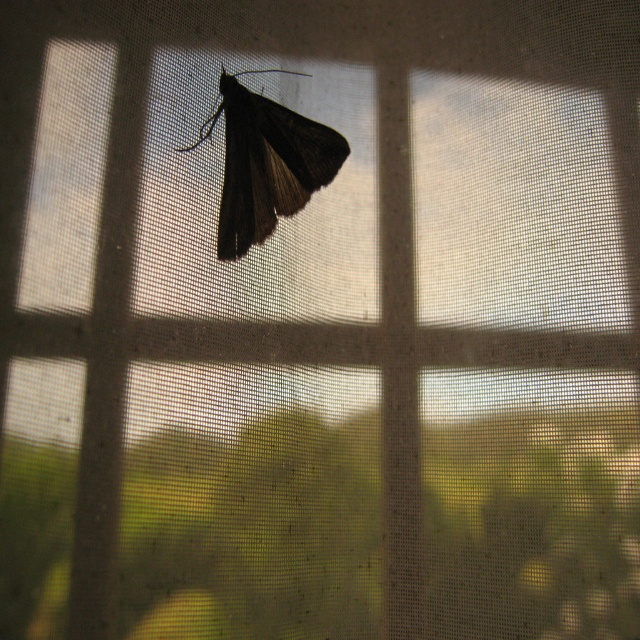Butterfly: (173, 63, 353, 261)
